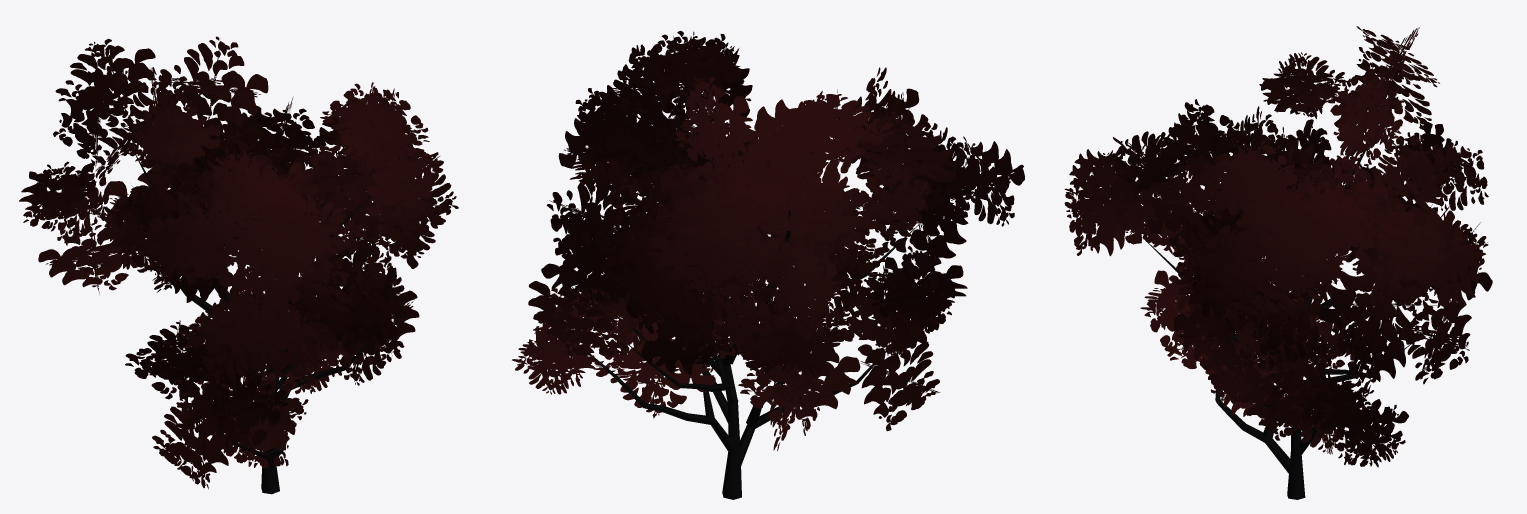
The model's file is test-tree7.glb.
The picture shows the model from 3 angles, left to right: view 1: azimuth 30°, elevation 25°; view 2: azimuth 150°, elevation 25°; view 3: azimuth 270°, elevation 25°; orthographic projection. The views are drawn at different scales.
Visible parts, largest first — view 1: trunk.008; view 2: trunk.008; view 3: trunk.008.
Boxes of the visible parts, box(x1,y1,x2,y2) form: trunk.008: box(19, 36, 458, 494); trunk.008: box(512, 31, 1024, 499); trunk.008: box(1064, 26, 1492, 499).
Bounding box in the file's own units: 38.15 × 44.03 × 41.7.
1 material, 1 textured.
